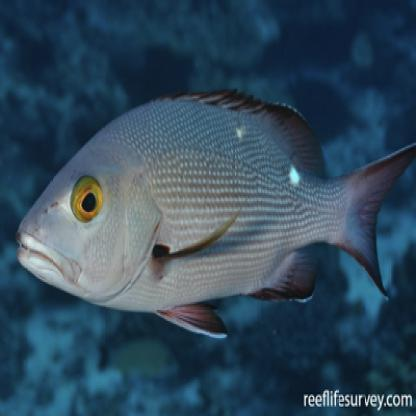Lutjanidae -Snappers-: (9, 79, 416, 347)
